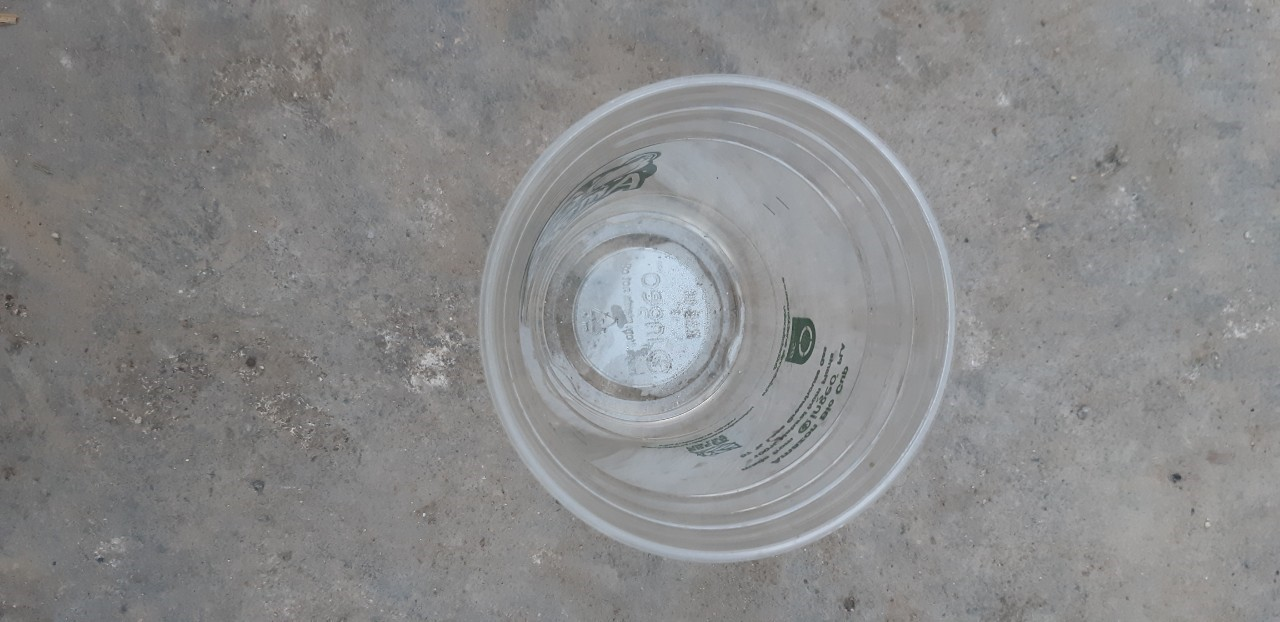PlasticCup: (479, 71, 956, 564)
